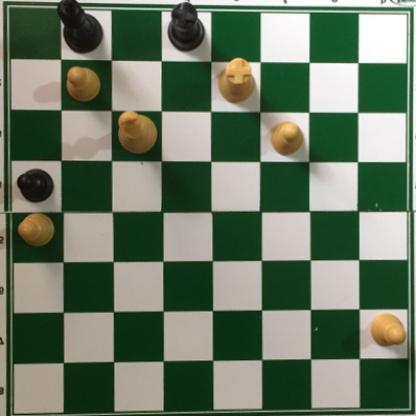black-king: (58, 1, 106, 57)
black-pawn: (16, 166, 56, 203)
black-rook: (166, 1, 205, 54)
white-king: (116, 109, 160, 157)
white-pawn: (17, 211, 57, 249), (369, 312, 408, 350), (66, 64, 102, 103), (269, 120, 306, 156)
white-rook: (217, 57, 258, 105)
